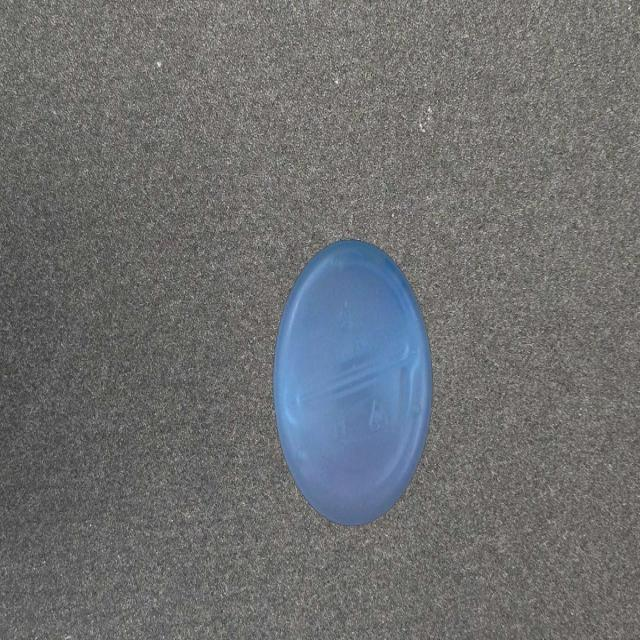bottle: (271, 235, 435, 530)
